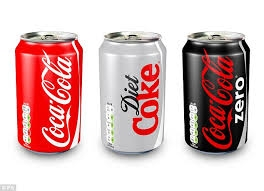can: (97, 29, 171, 159), (179, 29, 252, 157), (13, 30, 85, 156)
